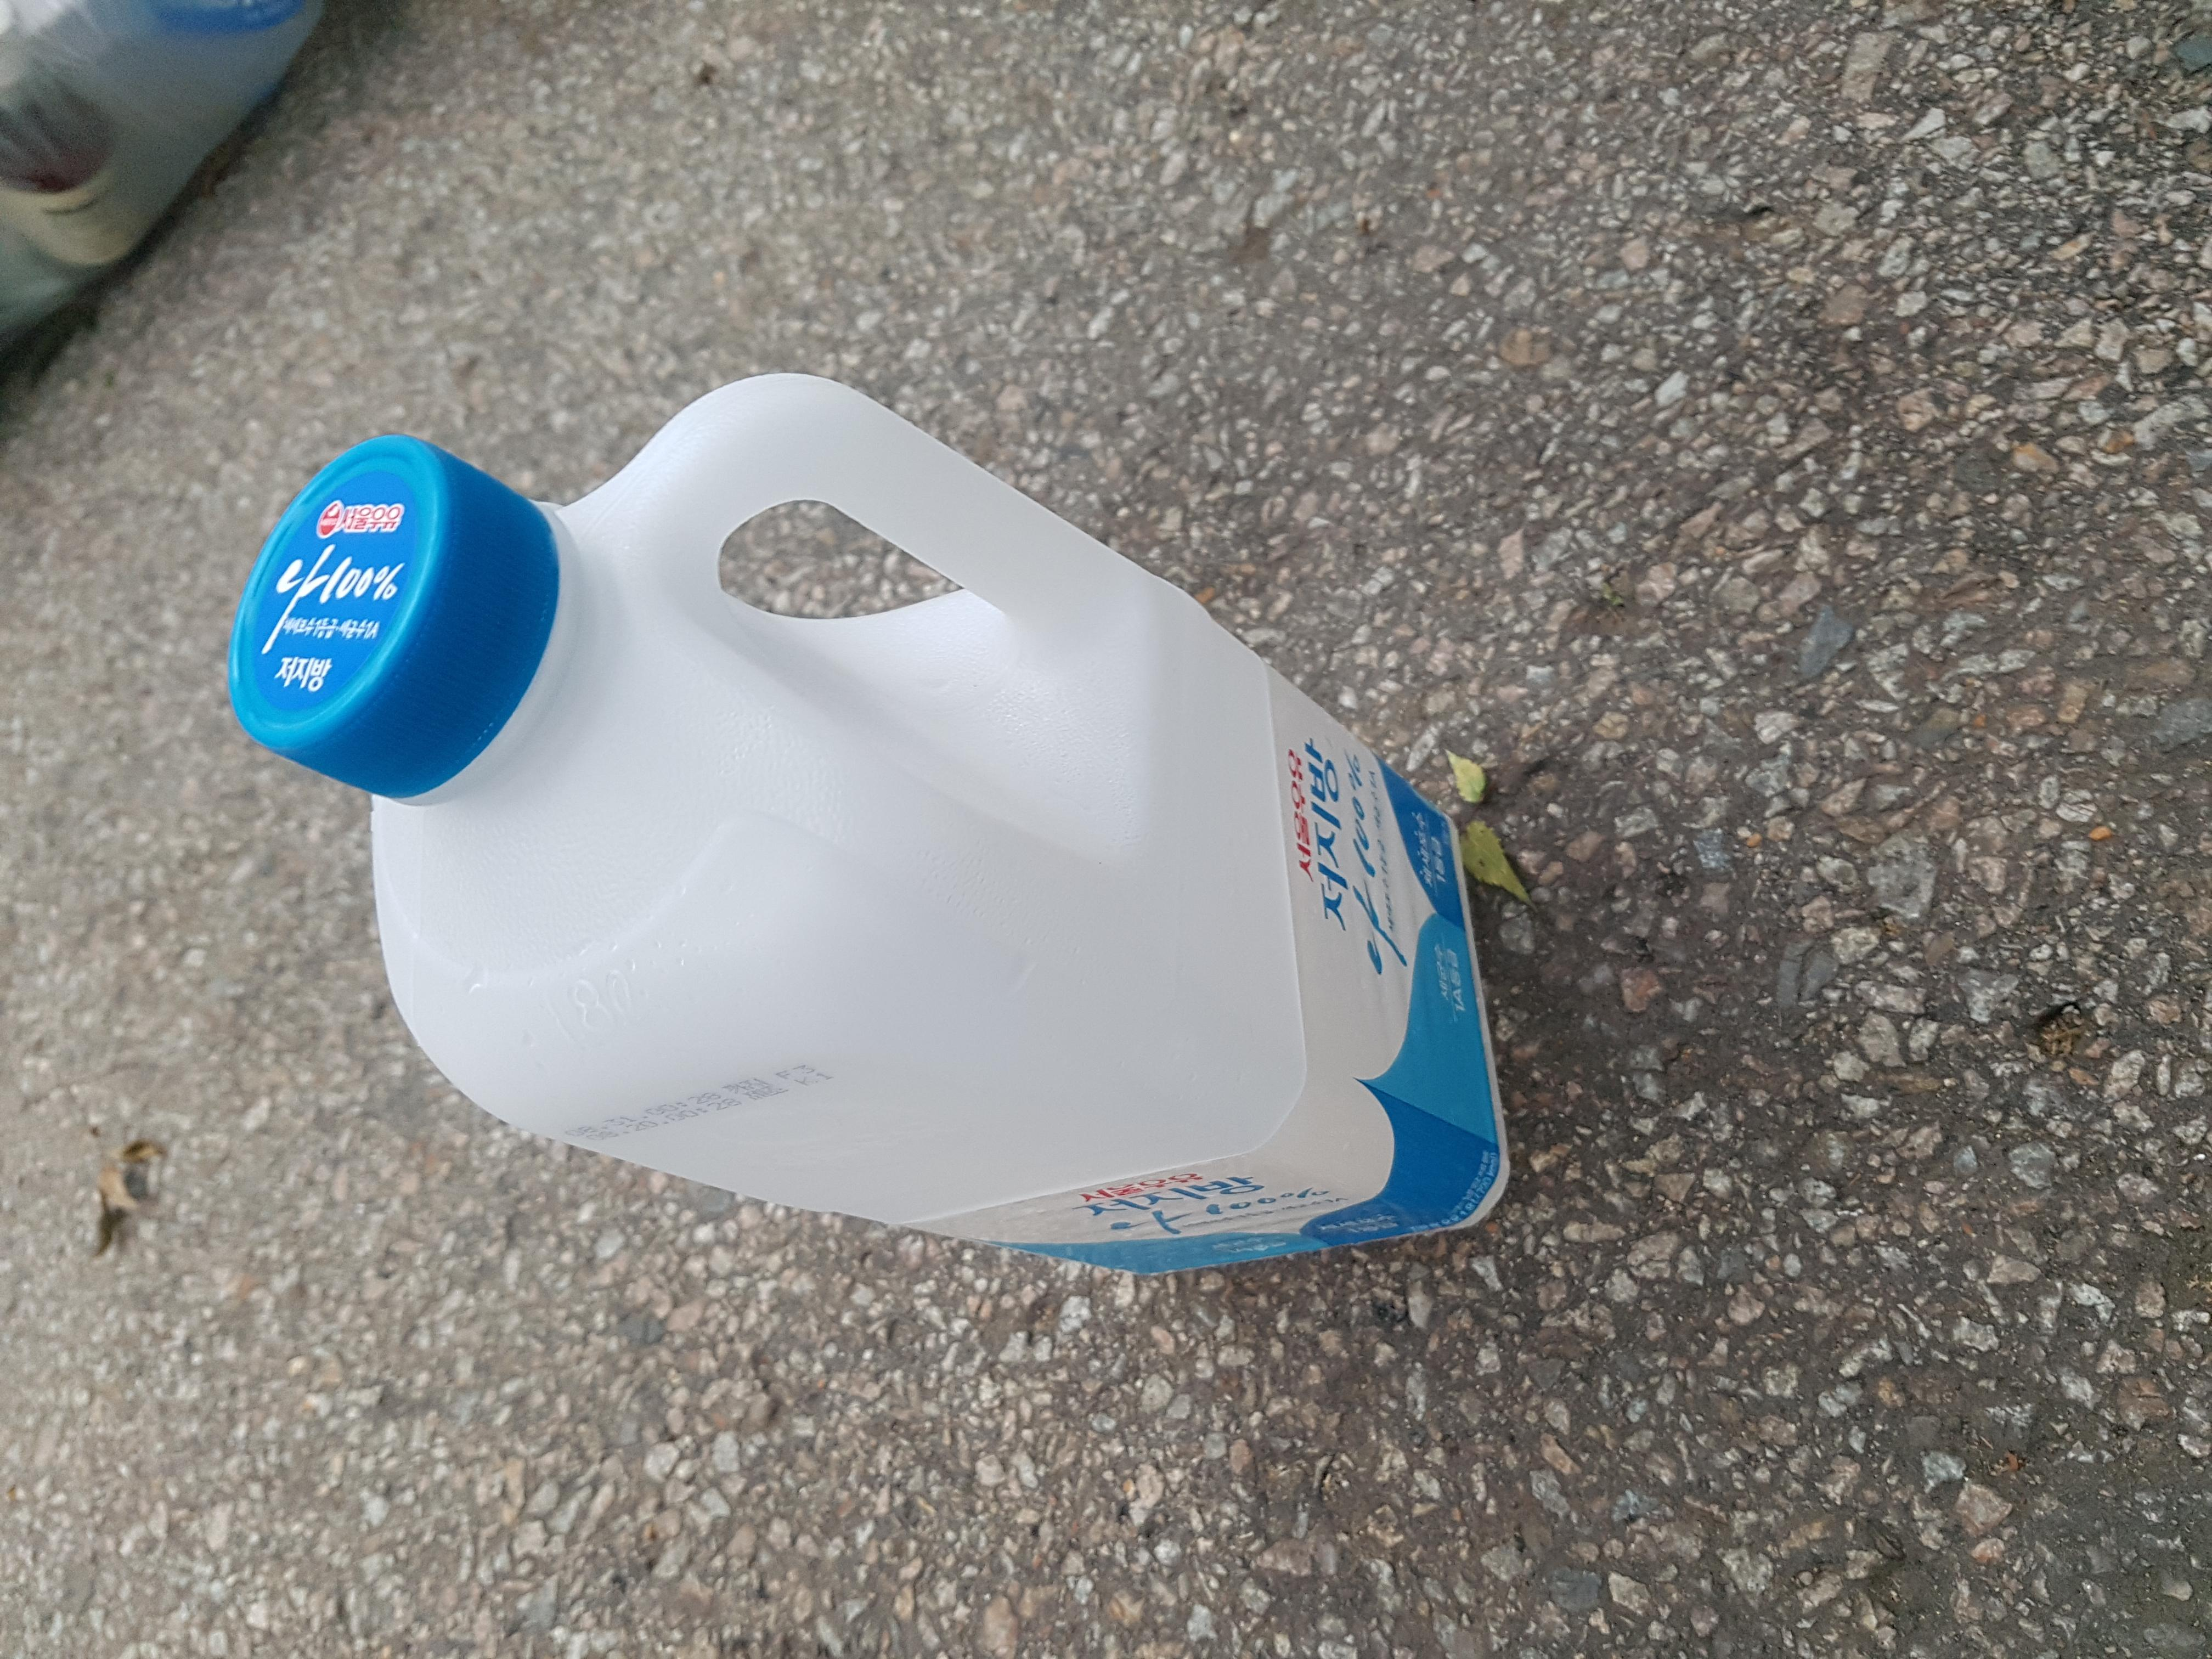bottle: (0, 356, 1336, 1290)
